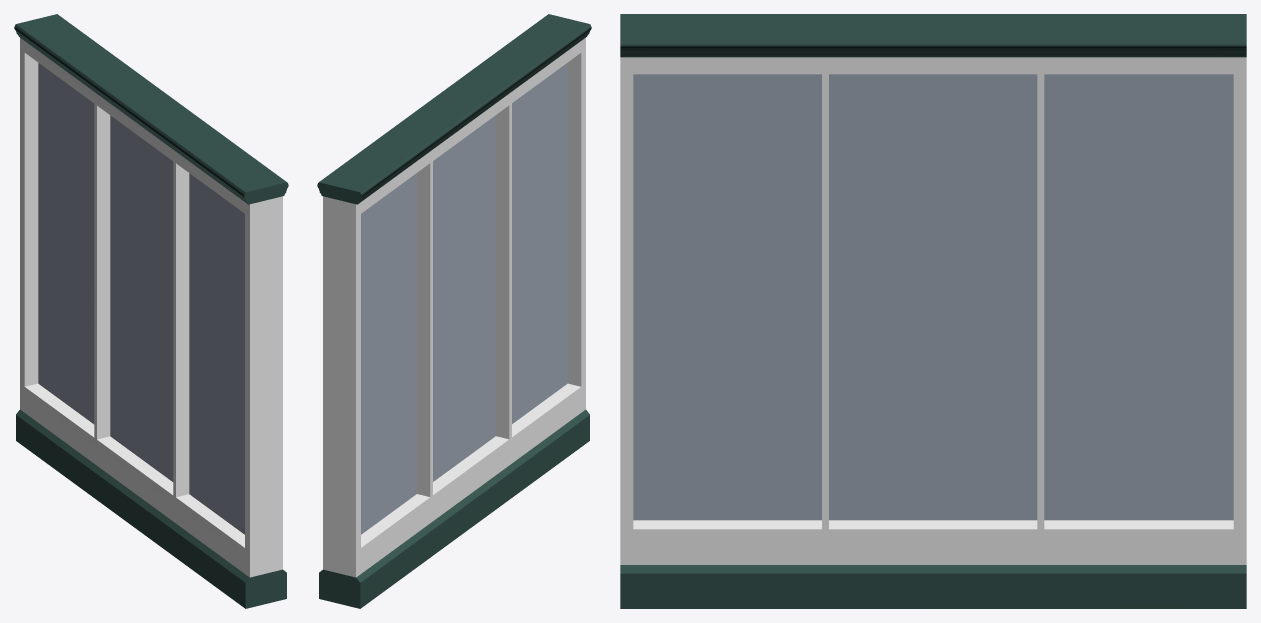
Rendered from Neo_WallWindow_03.fbx.
The picture shows the model from 3 angles, left to right: view 1: azimuth 30°, elevation 25°; view 2: azimuth 150°, elevation 25°; view 3: azimuth 270°, elevation 25°; orthographic projection. The views are drawn at different scales.
Visible parts, largest first — view 1: Neo_WallWindow_03_LOD00, Neo_WallWindow_03_Glass_01_LOD00; view 2: Neo_WallWindow_03_LOD00, Neo_WallWindow_03_Glass_01_LOD00; view 3: Neo_WallWindow_03_Glass_01_LOD00, Neo_WallWindow_03_LOD00.
Part boxes in pixels (<box>): Neo_WallWindow_03_LOD00: <box>14,14,288,608</box>; Neo_WallWindow_03_Glass_01_LOD00: <box>38,63,244,534</box>; Neo_WallWindow_03_LOD00: <box>317,14,591,608</box>; Neo_WallWindow_03_Glass_01_LOD00: <box>361,63,567,534</box>; Neo_WallWindow_03_Glass_01_LOD00: <box>633,74,1233,520</box>; Neo_WallWindow_03_LOD00: <box>620,14,1246,608</box>.
Size of what is drawn, in the model's own units: 33.6 by 300 by 300.
